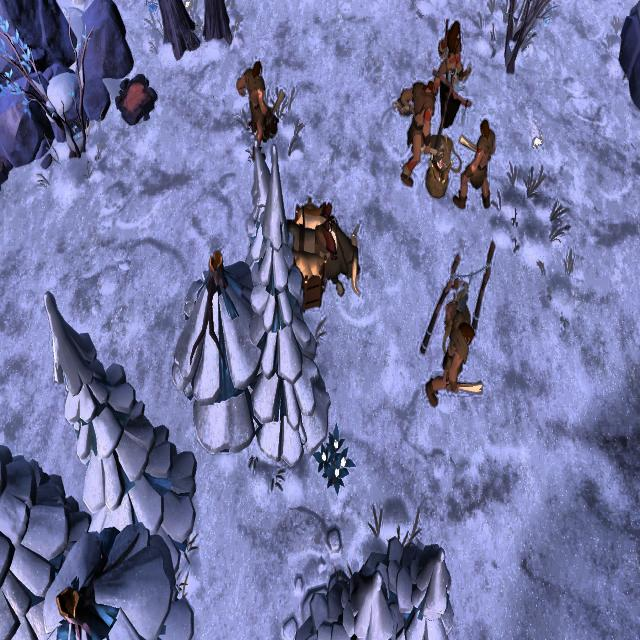enemy_factionKeeper: (424, 294, 482, 414), (454, 117, 499, 215), (236, 56, 279, 158), (399, 72, 434, 183), (428, 11, 470, 96)
fiber_t4: (314, 424, 351, 492)
